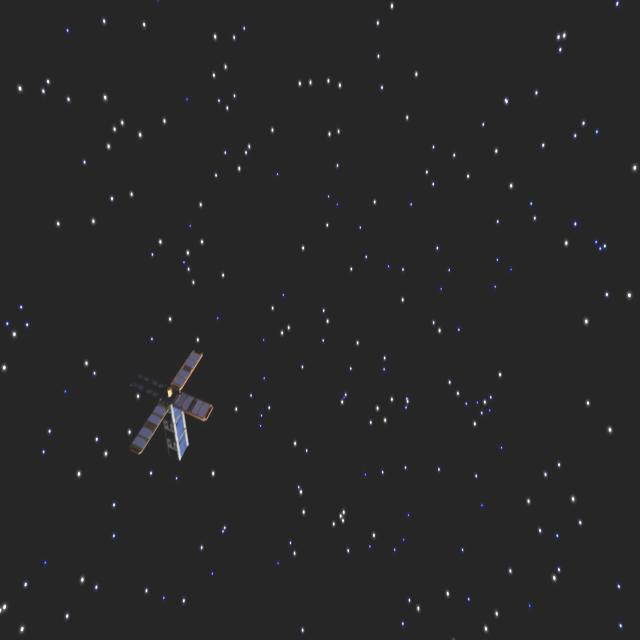medium_debris: (125, 344, 216, 474)
